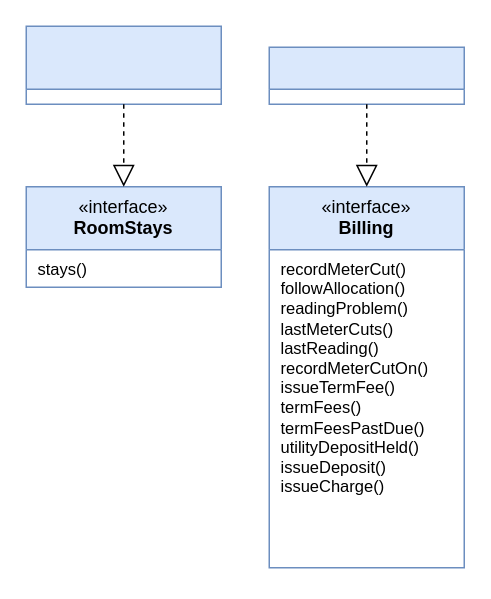
Some shapes in this 491 by 599 pixel diagram are drawn without their labels. Here are the shapes that lost their labels. From the top down, the centre of each, then its label:
At point 123,64: "«assignment» JdbcRoomStays".
At point 366,75: "JdbcBilling".
